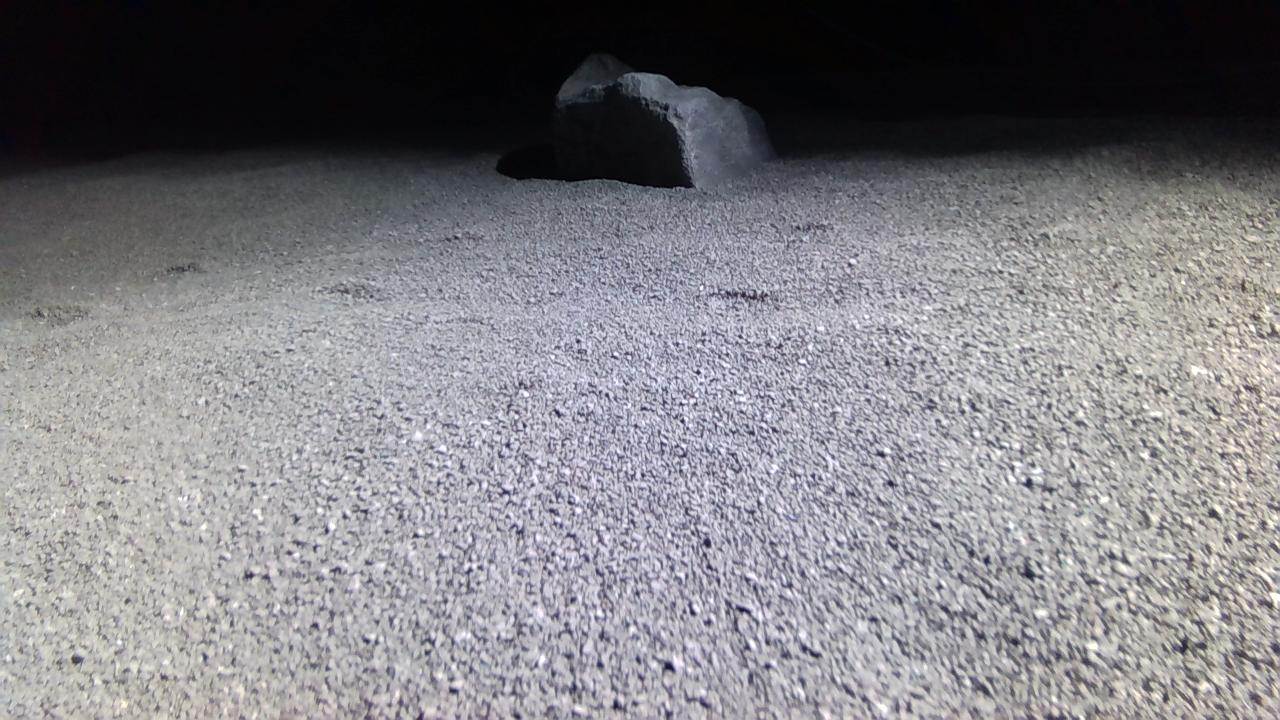rock: (555, 53, 775, 187)
